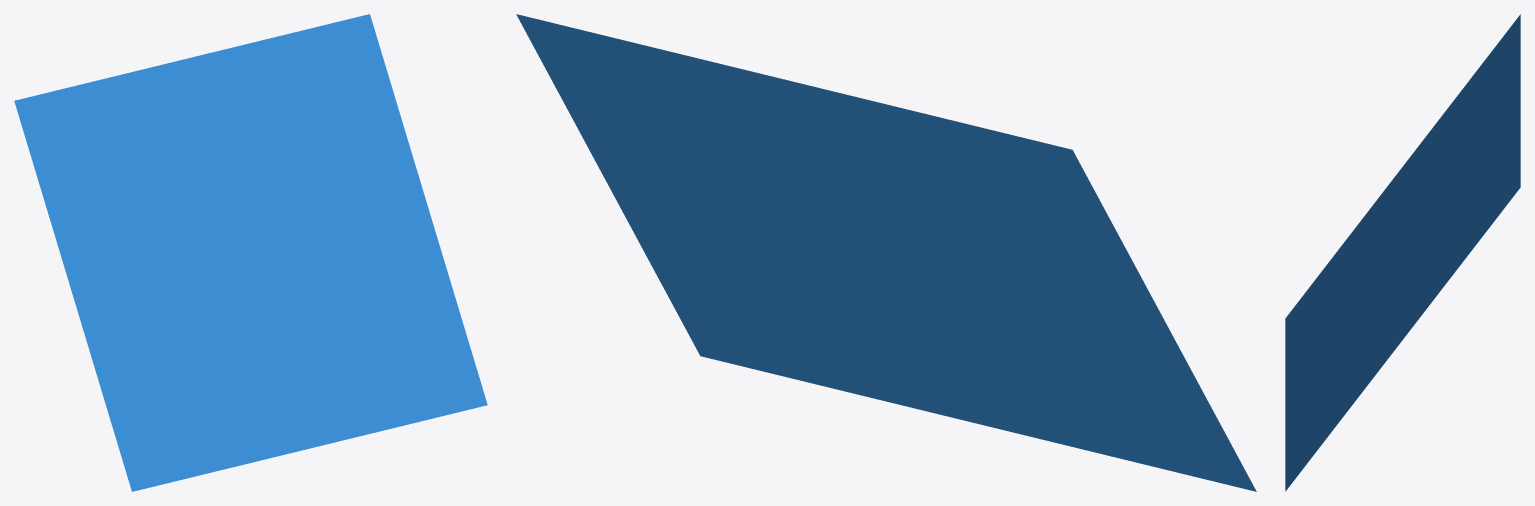
Rendered from morph_assimp_ascii.fbx.
3 views of the same model, side by side, from view 1: azimuth 30°, elevation 25°; view 2: azimuth 150°, elevation 25°; view 3: azimuth 270°, elevation 25° (orthographic). The views are drawn at different scales.
Visible parts, largest first — view 1: sheet_node; view 2: sheet_node; view 3: sheet_node.
Boxes of the visible parts, left/top/right/bottom form: sheet_node: left=14, top=14, right=487, bottom=491; sheet_node: left=516, top=14, right=1256, bottom=491; sheet_node: left=1285, top=14, right=1520, bottom=491.
Size of the model in its own units: 2 by 1.64 by 1.15.
